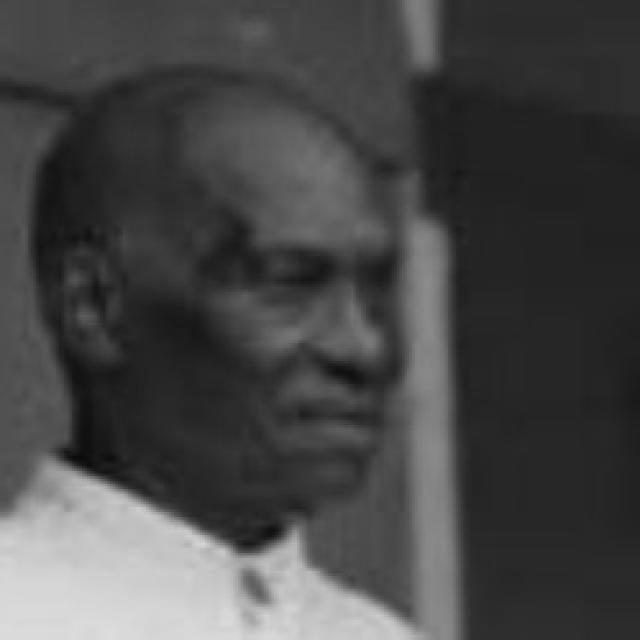real: (32, 60, 411, 526), (211, 233, 398, 306)
